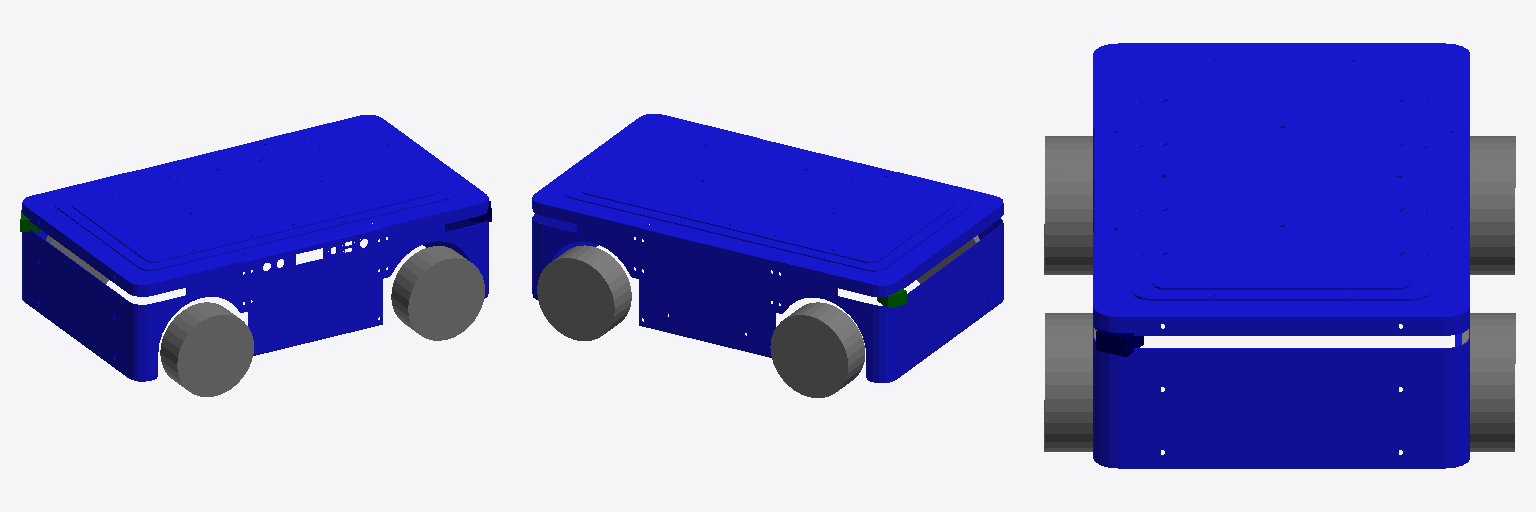
URDF robot description (amp1):
<?xml version="1.0"?>
<robot name="amp1">
  <link name="base_link">
  </link>
  <link name="cad_model">
    <visual>
      <geometry>
        <mesh filename="package://ht_core_amp/config/amp1_cover.stl" scale="1.0 1.0 1.0"/>
      </geometry>
      <material name="shell_material">
        <color rgba="0.1 0.1 0.9 0.8"/>
      </material>
    </visual>
  </link> 
  <!--<link name="cad_model">
    <visual>
      <geometry>
  			<box size="0.9271 0.5461 0.2413"/> 
      </geometry>
      <material name="shell_material">
        <color rgba="0.1 0.1 0.9 0.5"/>
      </material>
    </visual>
  </link>-->
  <link name="wheel0">
    <visual>
      <geometry name="wheel_geometry">
  			<cylinder length="0.0762" radius="0.1"/> 
      </geometry>
      <material name="wheel_material">
        <color rgba="0.5 0.5 0.5 0.6"/>
      </material>
    </visual>
  </link>
  <link name="wheel1">
    <visual>
      <geometry name="wheel_geometry">
  			<cylinder length="0.0762" radius="0.1"/> 
      </geometry>
      <material name="wheel_material">
        <color rgba="0.5 0.5 0.5 0.6"/>
      </material>
    </visual>
  </link>
  <link name="wheel2">
    <visual>
      <geometry name="wheel_geometry">
  			<cylinder length="0.0762" radius="0.1"/> 
      </geometry>
      <material name="wheel_material">
        <color rgba="0.5 0.5 0.5 0.6"/>
      </material>
    </visual>
  </link>
  <link name="wheel3">
    <visual>
      <geometry name="wheel_geometry">
  			<cylinder length="0.0762" radius="0.1"/> 
      </geometry>
      <material name="wheel_material">
        <color rgba="0.5 0.5 0.5 0.6"/>
      </material>
    </visual>
  </link>
  <link name="frame_laser_front">
    <visual>
      <material name="laser_material">
        <color rgba="0.0 0.0 0.4 1.0"/>
      </material>
      <geometry name="laser_geometry">
        <box size=".05 .05 .03"/>
      </geometry>
    </visual>
  </link>
  <link name="frame_laser_back">
    <visual>
      <material name="laser_material">
        <color rgba="0.0 0.4 0.0 1.0"/>
      </material>
      <geometry name="laser_geometry">
        <box size=".05 .05 .03"/>
      </geometry>
    </visual>
  </link>
  <joint name="j_cad_model" type="fixed">
       <parent link="base_link"/>
       <child link="cad_model"/>
       <!--<origin xyz="0.0 0.0 0.1587" rpy="0 0 0" />-->
       <origin xyz="0.0 0.0 0.0381" rpy="0 0 0" />
  </joint>
  <joint name="j_laser_front" type="fixed">
       <parent link="base_link"/>
       <child link="frame_laser_front"/>
       <!--<origin xyz="0.4318 -0.23 0.24" rpy="0 0 -0.52" />-->
       <origin xyz="0.45 -0.23 0.24" rpy="0 0 -0.52" />
  </joint>
  <joint name="j_laser_back" type="fixed">
       <parent link="base_link"/>
       <child link="frame_laser_back"/>
       <!--<origin xyz="-0.4318 0.23 0.24" rpy="0 0 2.61" />-->
       <origin xyz="-0.45 0.23 0.24" rpy="0 0 2.61" />
  </joint>
  <joint name="wheel0" type="continuous">
     <parent link="base_link"/>
     <child link="wheel0"/>
     <axis xyz="0 0 1"/>
     <origin xyz="0.3 0.3 0.1" rpy="1.57 0 0" />
  </joint>
  <joint name="wheel1" type="continuous">
     <parent link="base_link"/>
     <child link="wheel1"/>
     <axis xyz="0 0 1"/>
     <origin xyz="0.3 -0.3 0.1" rpy="1.57 0 0" />
  </joint>
  <joint name="wheel2" type="continuous">
     <parent link="base_link"/>
     <child link="wheel2"/>
     <axis xyz="0 0 1"/>
     <origin xyz="-0.3 -0.3 0.1" rpy="1.57 0 0" />
  </joint>
  <joint name="wheel3" type="continuous">
     <parent link="base_link"/>
     <child link="wheel3"/>
     <axis xyz="0 0 1"/>
     <origin xyz="-0.3 0.3 0.1" rpy="1.57 0 0" />
  </joint>
</robot>

--- Render facts (derived) ---
3 views of the same robot in one strip: view 1: azimuth 30°, elevation 25°; view 2: azimuth 150°, elevation 25°; view 3: azimuth 270°, elevation 25° (orthographic).
Model amp1 with 8 links and 7 joints (4 continuous, 3 fixed), rooted at base_link, posed every joint at zero.
Visible links, largest first — view 1: cad_model, wheel1, wheel2; view 2: cad_model, wheel3, wheel0; view 3: cad_model, wheel1, wheel2, wheel0, wheel3, frame_laser_front.
Boxes of the visible links, x1=… form: cad_model: x1=22, y1=115, x2=488, y2=381; wheel1: x1=391, y1=246, x2=484, y2=340; wheel2: x1=160, y1=302, x2=253, y2=396; cad_model: x1=532, y1=114, x2=1003, y2=382; wheel3: x1=770, y1=302, x2=864, y2=397; wheel0: x1=537, y1=245, x2=631, y2=340; cad_model: x1=1093, y1=43, x2=1469, y2=468; wheel1: x1=1044, y1=313, x2=1096, y2=451; wheel2: x1=1044, y1=136, x2=1092, y2=274; wheel0: x1=1462, y1=313, x2=1515, y2=451; wheel3: x1=1470, y1=136, x2=1515, y2=274; frame_laser_front: x1=1096, y1=329, x2=1143, y2=356.
Size in the robot's own frame: 0.9683 by 0.6764 by 0.2861 metres.
1 mesh visuals loaded from 1 distinct referenced files (1 binary STL).
